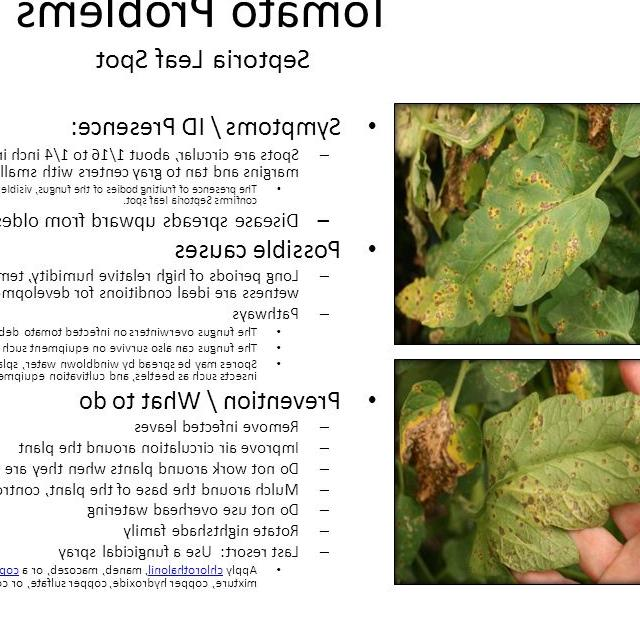Tomato Septoria leaf spot: (397, 146, 614, 330), (477, 391, 640, 573), (399, 370, 493, 512)
